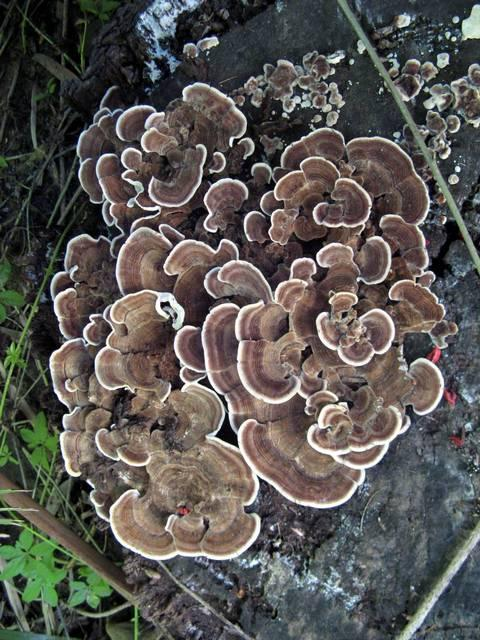poisonous_mushroom: (48, 77, 453, 562)
